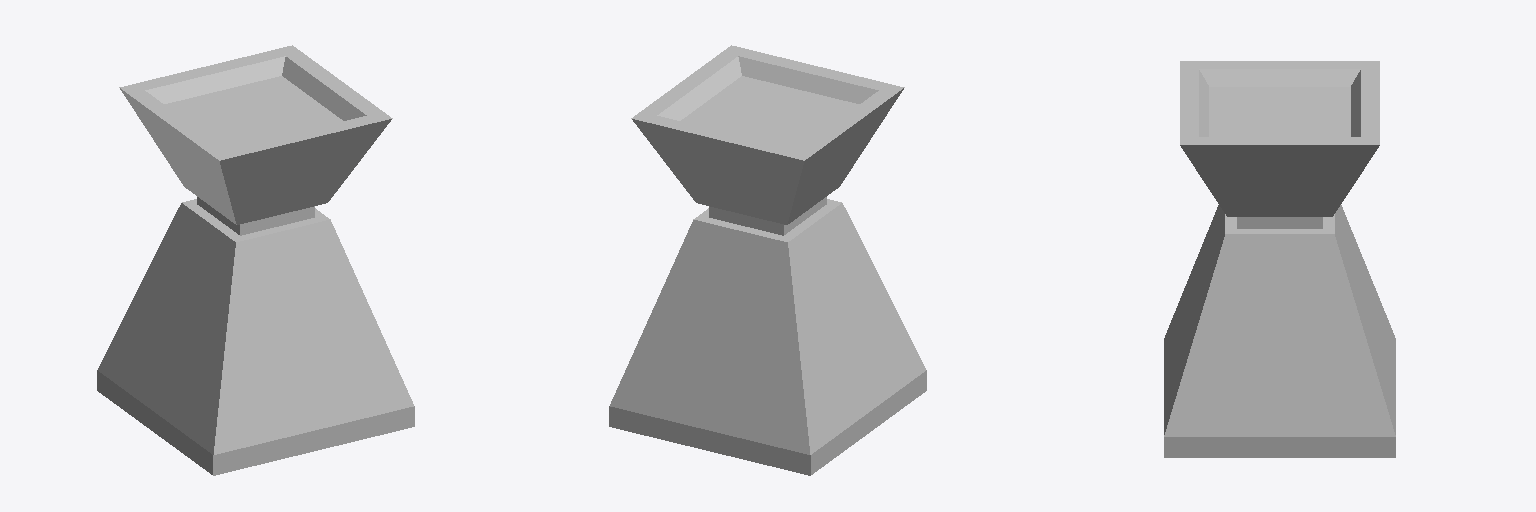
Rendered from queen.obj.
3 views of the same model, side by side, from view 1: azimuth 30°, elevation 25°; view 2: azimuth 150°, elevation 25°; view 3: azimuth 270°, elevation 25° (orthographic).
Visible parts, largest first — view 1: Cube; view 2: Cube; view 3: Cube.
Part boxes in pixels (left/top/right/bottom): Cube: left=97, top=45, right=414, bottom=475; Cube: left=609, top=45, right=926, bottom=475; Cube: left=1164, top=61, right=1395, bottom=457.
Bounding box in the file's own units: 1.38 × 2.01 × 1.38.